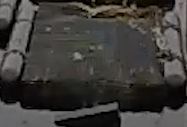bag: (1, 9, 184, 122)
